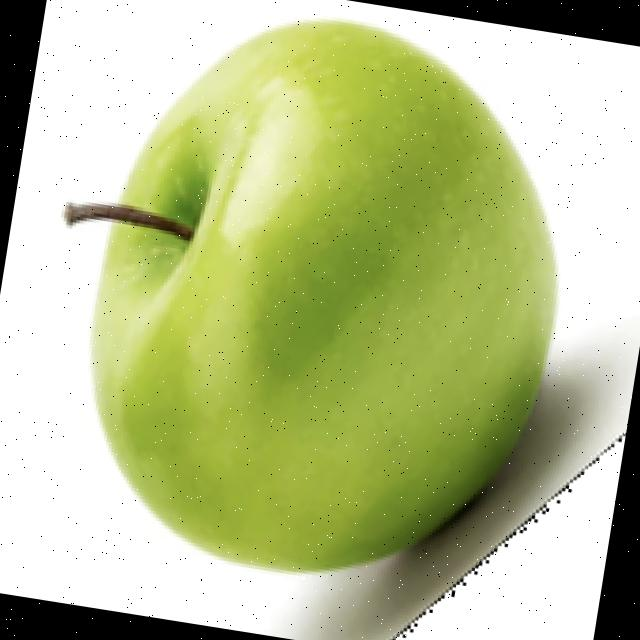apple: (58, 13, 631, 640)
